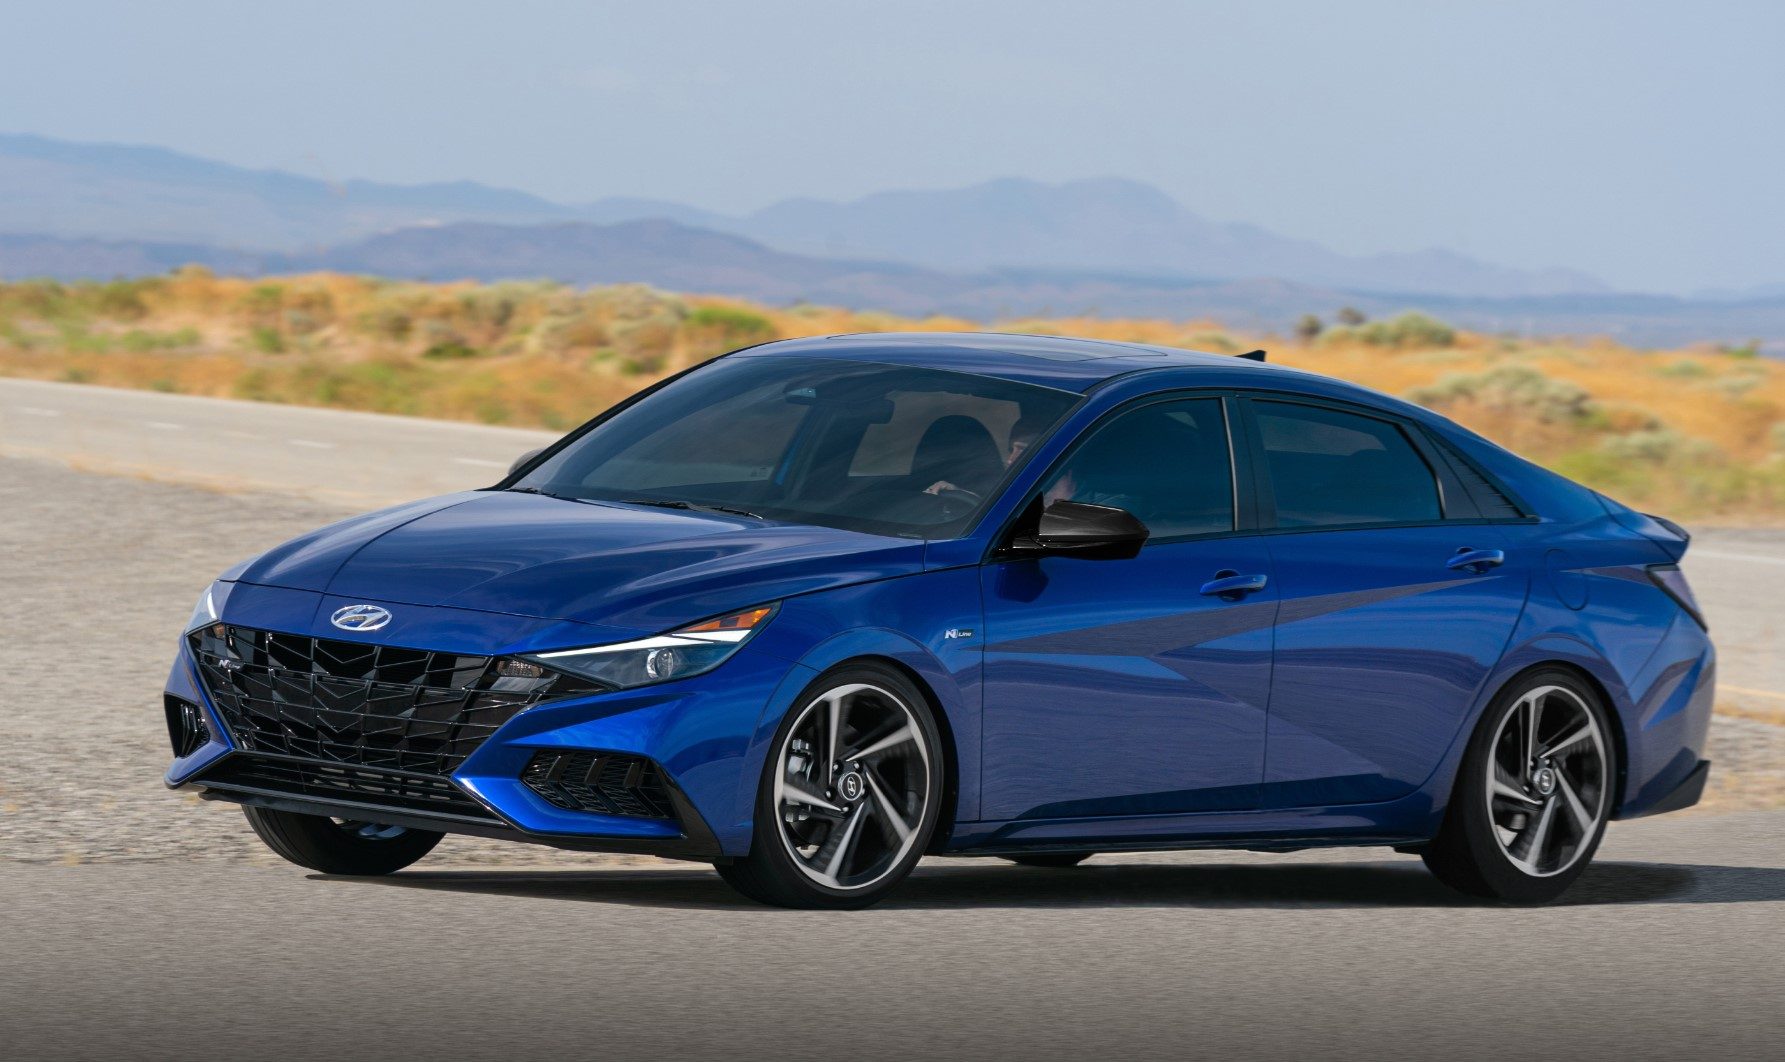car: (162, 330, 1721, 906)
